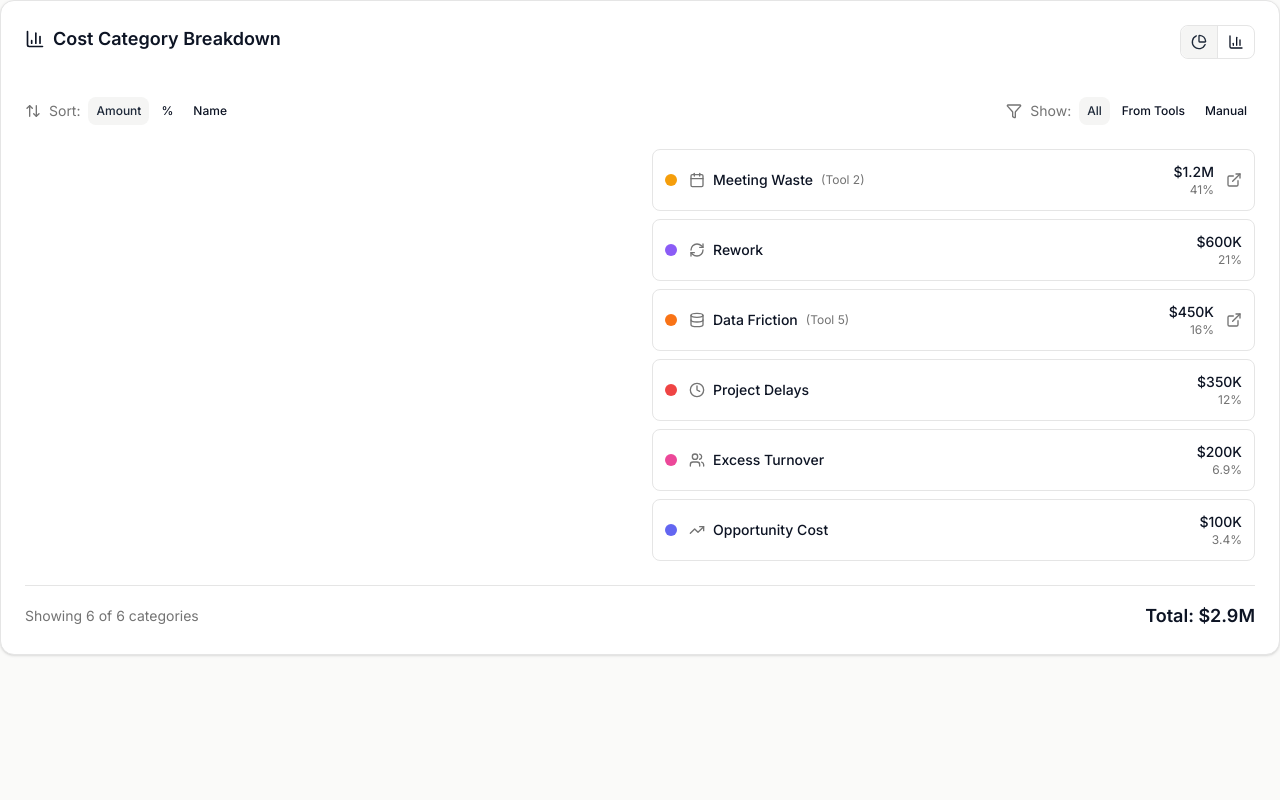
Test: CostCategoryChart › filtering › filters to show only manual input when clicked
This screenshot has width=1280, height=800.
Click the button "Manual".
click(1226, 111)  # box [1197,97,1255,125]
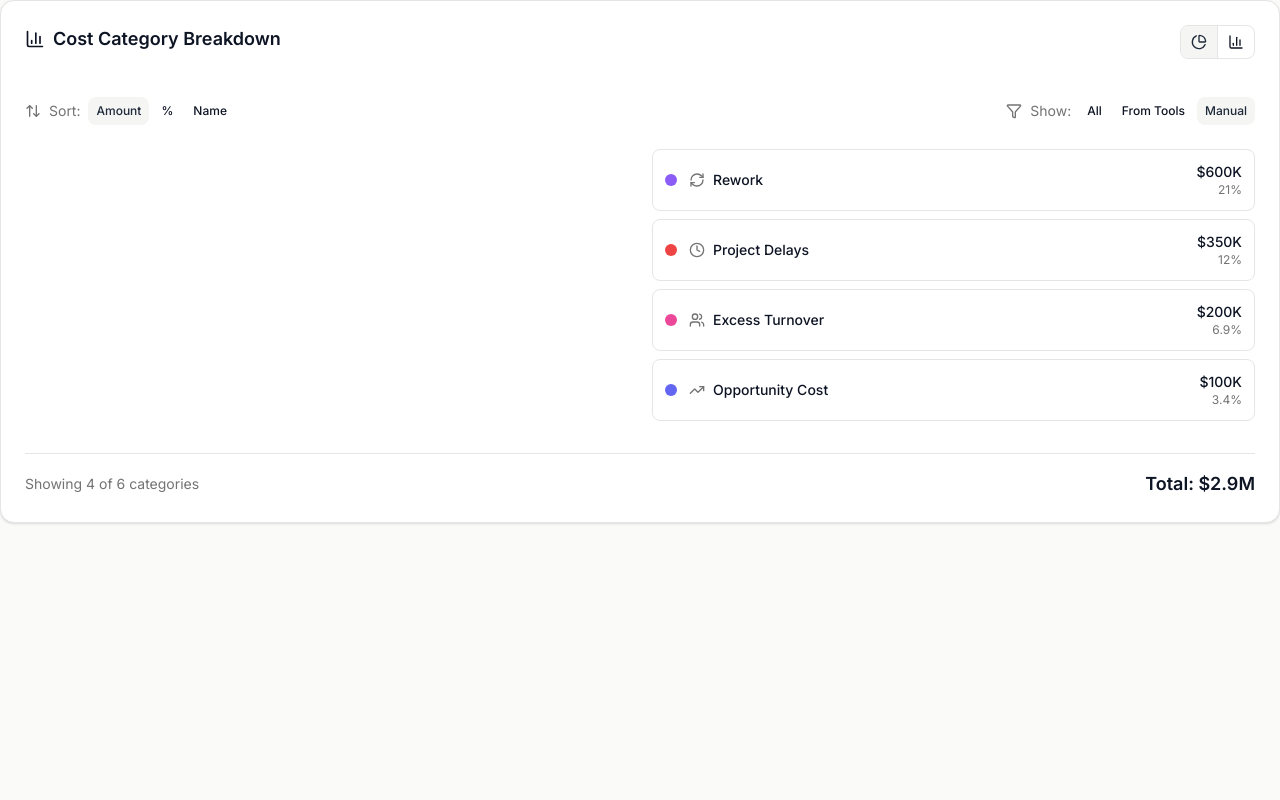
Expected: the text "Project Delays" is shown, [713,240,809,260]
Now the link "Meeting Waste" is gone
Now the link "Data Friction" is gone
